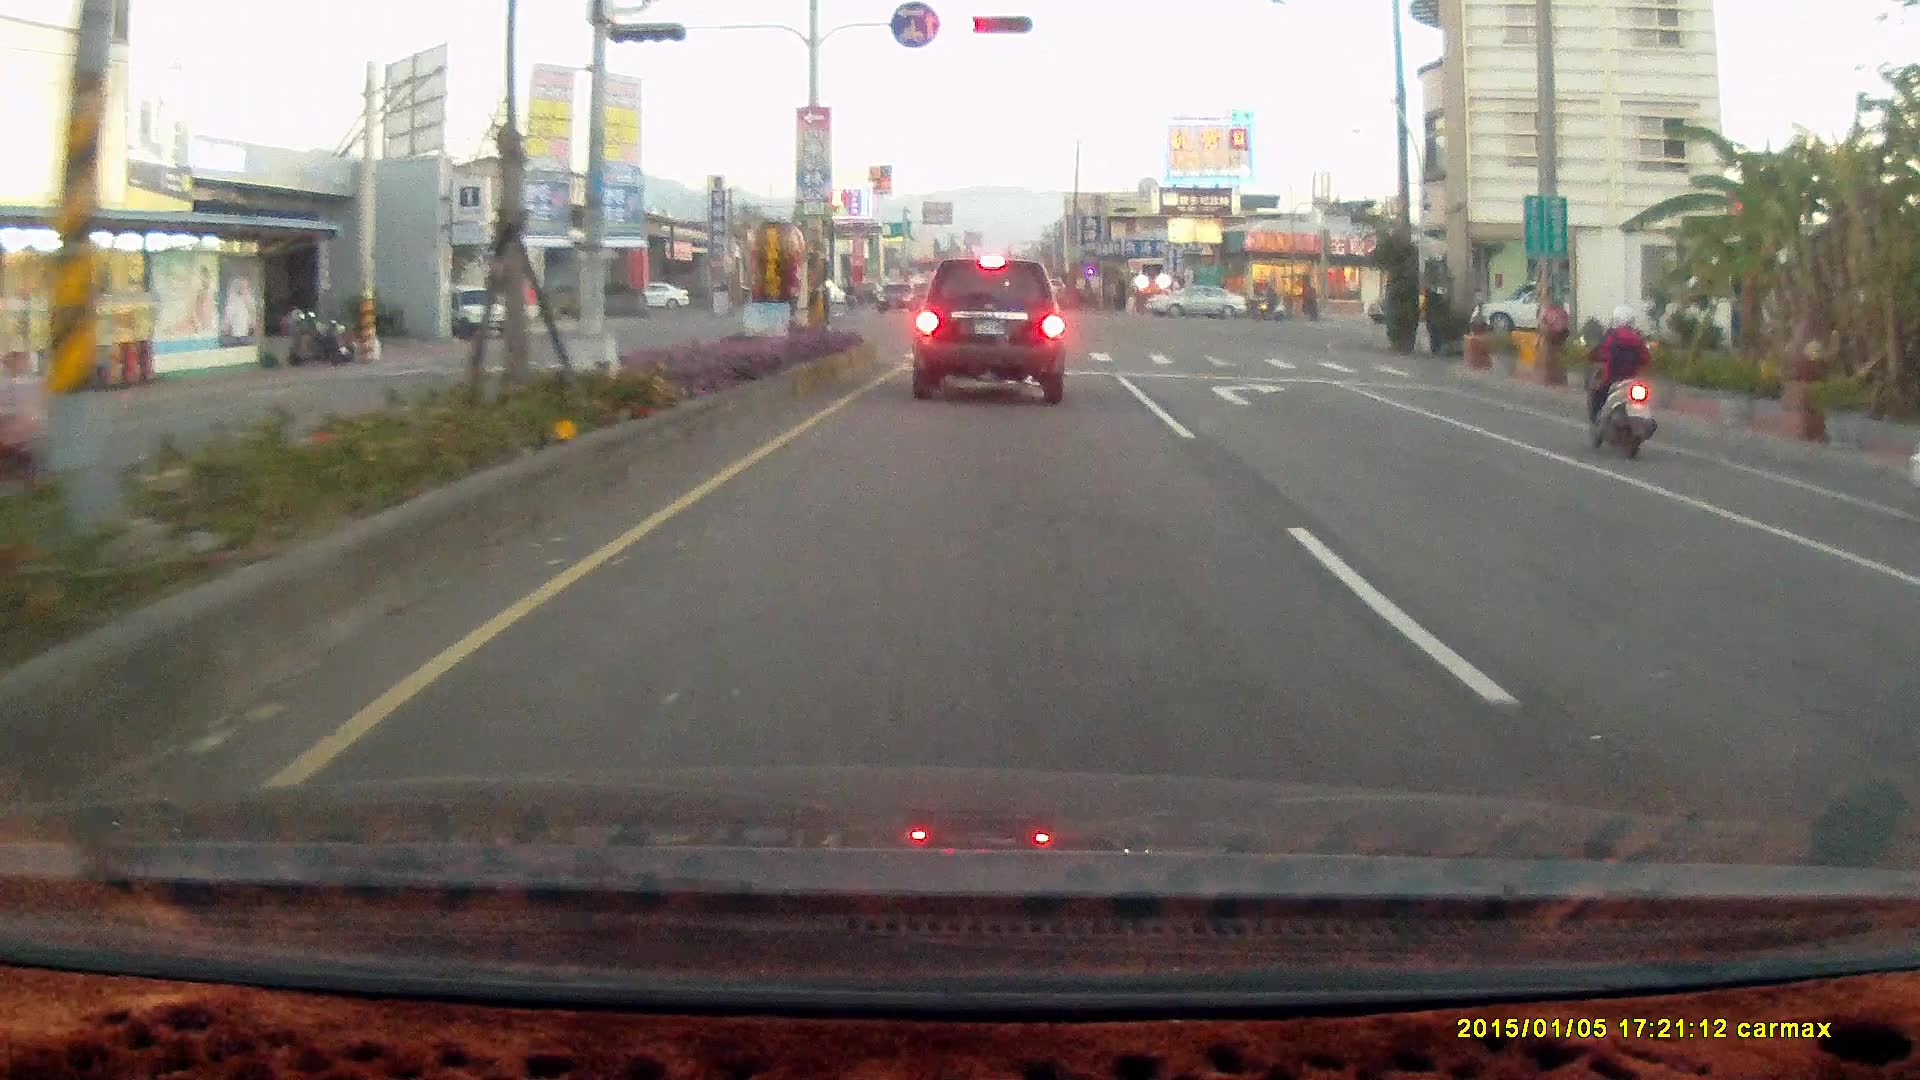rider: (1577, 304, 1658, 462), (1252, 278, 1288, 320)
vehicle: (911, 257, 1066, 404), (1896, 493, 1920, 836), (1472, 279, 1600, 340), (1474, 282, 1591, 343), (1883, 528, 1920, 690), (439, 284, 516, 338), (1141, 286, 1249, 325), (1141, 282, 1248, 319)
